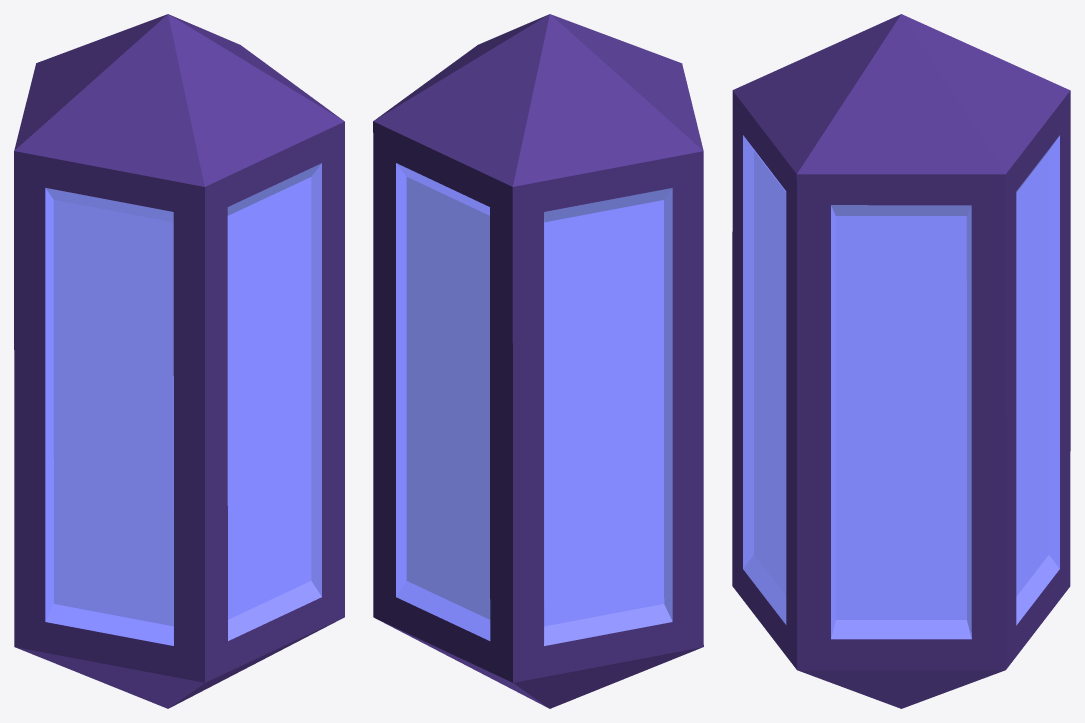
Rendered from crystal.fbx.
The picture shows the model from 3 angles, left to right: view 1: azimuth 30°, elevation 25°; view 2: azimuth 150°, elevation 25°; view 3: azimuth 270°, elevation 25°; orthographic projection.
Visible parts, largest first — view 1: Icosphere; view 2: Icosphere; view 3: Icosphere.
Boxes of the visible parts, box(x1,y1,x2,y2) form: Icosphere: box(14, 14, 344, 708); Icosphere: box(373, 14, 703, 708); Icosphere: box(732, 14, 1070, 708).
Bounding box in the file's own units: 115 × 273 × 120.
